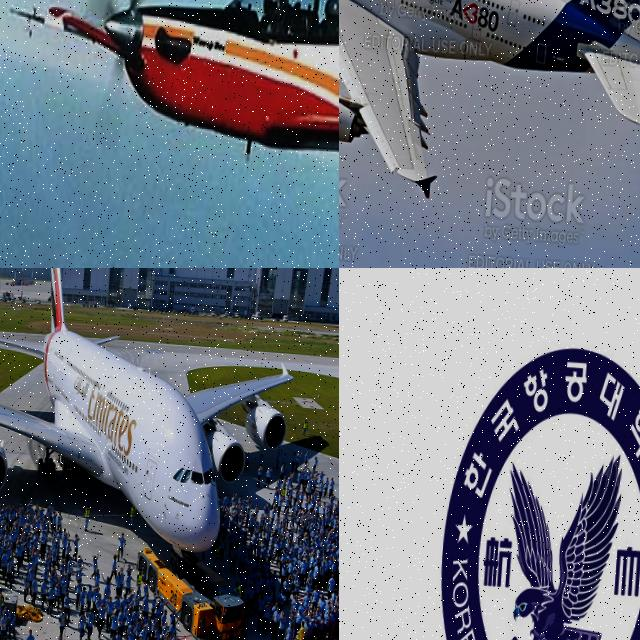A380: (0, 268, 305, 551), (339, 0, 640, 204)
KAU_Marker: (428, 339, 640, 640)
KT-1: (2, 0, 339, 179)
